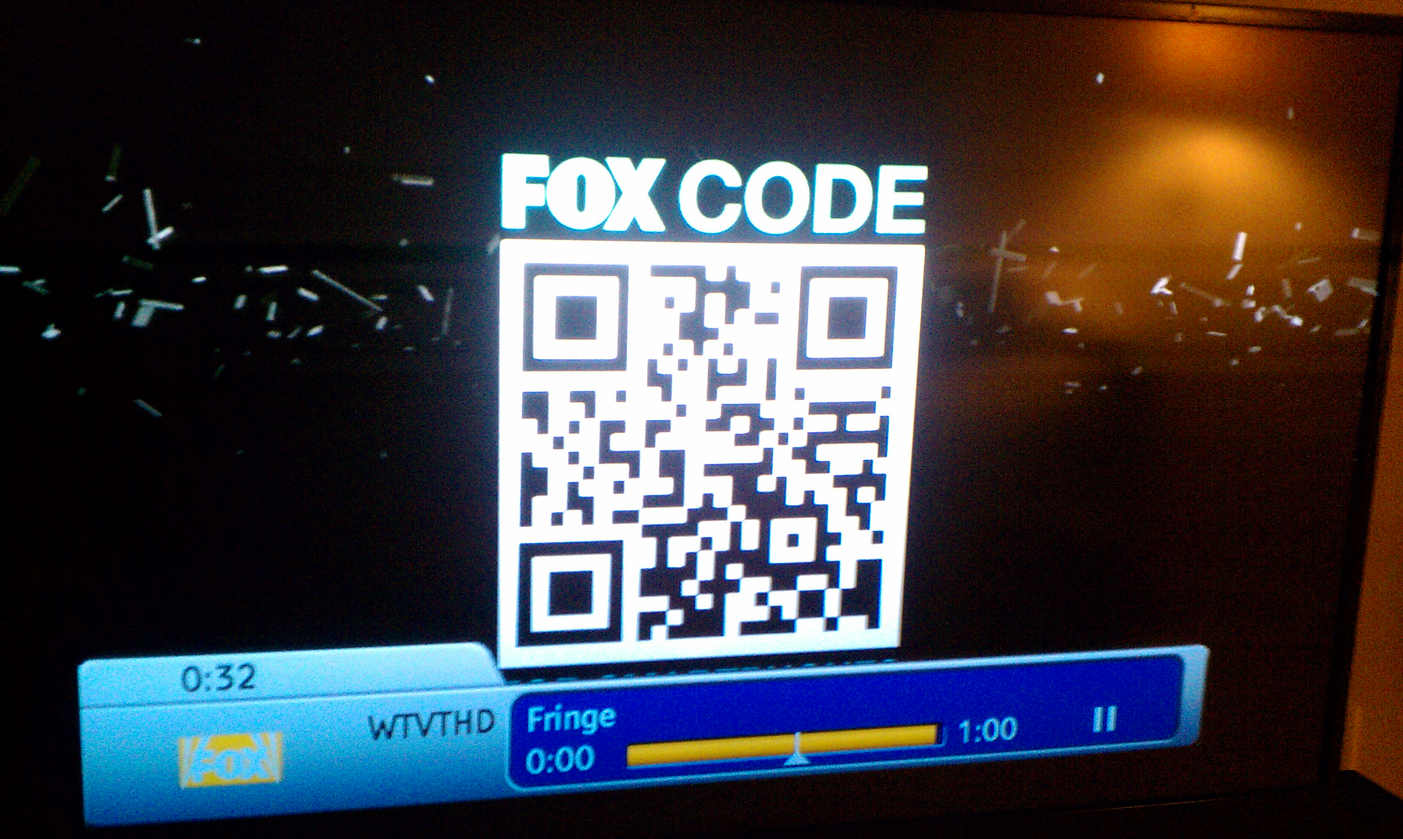QR-CODE: (516, 263, 898, 646)
